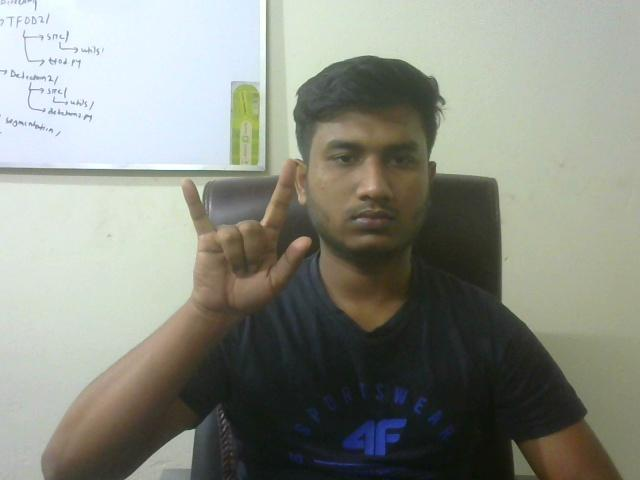IloveYou: (151, 158, 322, 326)
